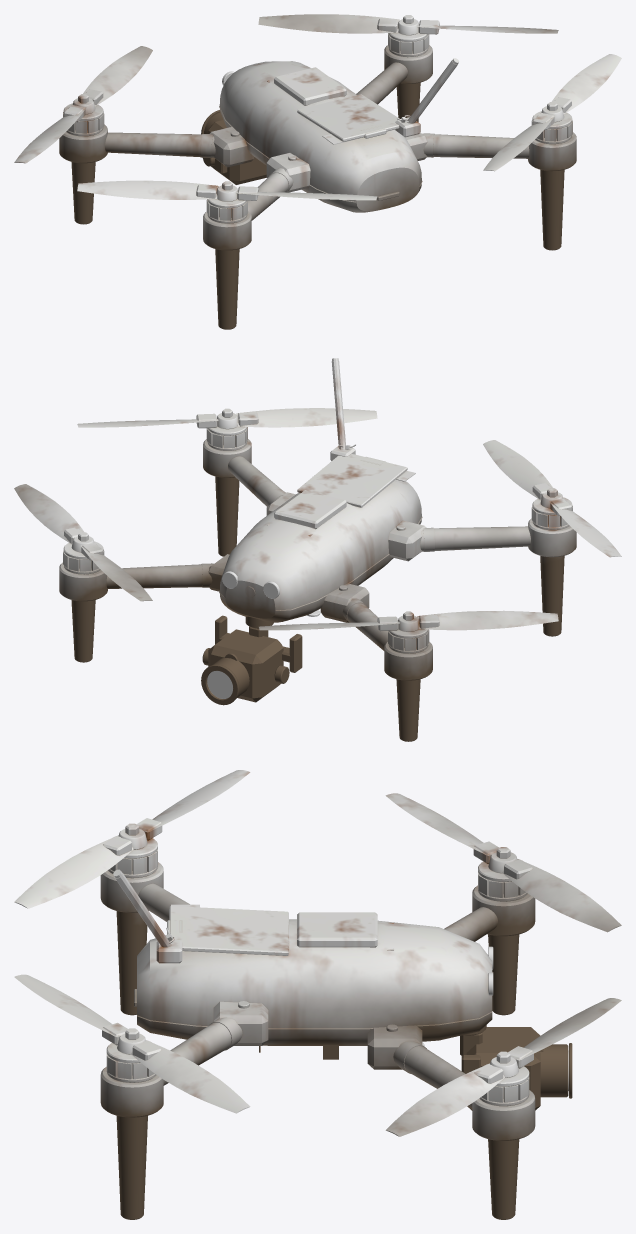
File: drone-reconquad-v5.glb
The picture shows the model from 3 angles, top to bottom: view 1: azimuth 30°, elevation 25°; view 2: azimuth 150°, elevation 25°; view 3: azimuth 270°, elevation 25°; orthographic projection. The views are drawn at different scales.
Parts seen in each view (by area): view 1: grey_body_shell_upper, grey_arm_fl, grey_battery_cover, prop_fr_blades_plastic, prop_rl_blades_plastic, prop_fl_blades_plastic, prop_rr_blades_plastic, grey_arm_rr, grey_arm_rl, rubber_foot_rr, grey_gnss_hump, rubber_foot_rl (+16 smaller); view 2: grey_body_shell_upper, grey_battery_cover, grey_arm_rl, shell_camera_body, prop_fl_blades_plastic, prop_rr_blades_plastic, prop_rl_blades_plastic, prop_fr_blades_plastic, grey_arm_fr, grey_arm_fl, grey_gnss_hump, rubber_foot_rr (+20 smaller); view 3: grey_body_shell_upper, grey_battery_cover, prop_rr_blades_plastic, prop_fl_blades_plastic, prop_rl_blades_plastic, prop_fr_blades_plastic, grey_body_shell_lower, grey_arm_rr, grey_arm_fr, grey_gnss_hump, rubber_foot_rr, grey_motor_pod_rr (+19 smaller).
Boxes of the visible parts, x1,y1,x2,y2 form: grey_body_shell_upper: (219,61,421,201); grey_arm_fl: (105,126,254,167); grey_battery_cover: (297,94,399,141); prop_fr_blades_plastic: (258,14,558,33); prop_rl_blades_plastic: (77,180,377,200); prop_fl_blades_plastic: (14,46,152,163); prop_rr_blades_plastic: (483,54,621,171); grey_arm_rr: (405,132,529,160); grey_arm_rl: (248,153,310,220); rubber_foot_rr: (540,169,564,250); grey_gnss_hump: (274,67,346,105); rubber_foot_rl: (215,249,239,329); grey_body_shell_upper: (219,479,421,610); grey_battery_cover: (297,453,407,507); grey_arm_rl: (388,520,530,561); shell_camera_body: (208,629,283,702); prop_fl_blades_plastic: (258,610,558,630); prop_rr_blades_plastic: (77,408,377,427); prop_rl_blades_plastic: (483,440,621,557); prop_fr_blades_plastic: (14,484,152,601); grey_arm_fr: (106,554,229,591); grey_arm_fl: (320,583,387,650); grey_gnss_hump: (274,490,346,529); rubber_foot_rr: (215,476,239,556); grey_body_shell_upper: (137,919,492,1028); grey_battery_cover: (169,906,288,955); prop_rr_blades_plastic: (14,974,250,1113); prop_fl_blades_plastic: (385,793,621,932); prop_rl_blades_plastic: (14,770,250,908); prop_fr_blades_plastic: (385,998,621,1136); grey_body_shell_lower: (137,1012,492,1045); grey_arm_rr: (163,1001,268,1085); grey_arm_fr: (367,1025,472,1108); grey_gnss_hump: (297,912,377,947); rubber_foot_rr: (116,1115,147,1219); grey_motor_pod_rr: (100,1066,163,1117).
Bounding box in the file's own units: 0.5028 × 0.1918 × 0.3766.
Materials: 1 (1 with a texture image).
